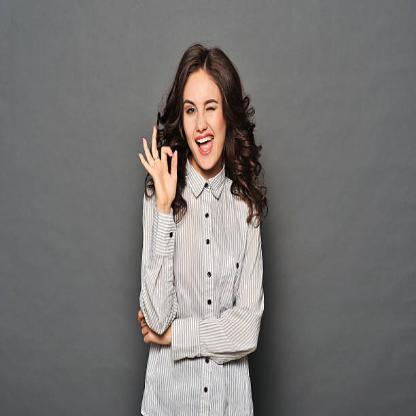ok: (137, 120, 180, 210)
